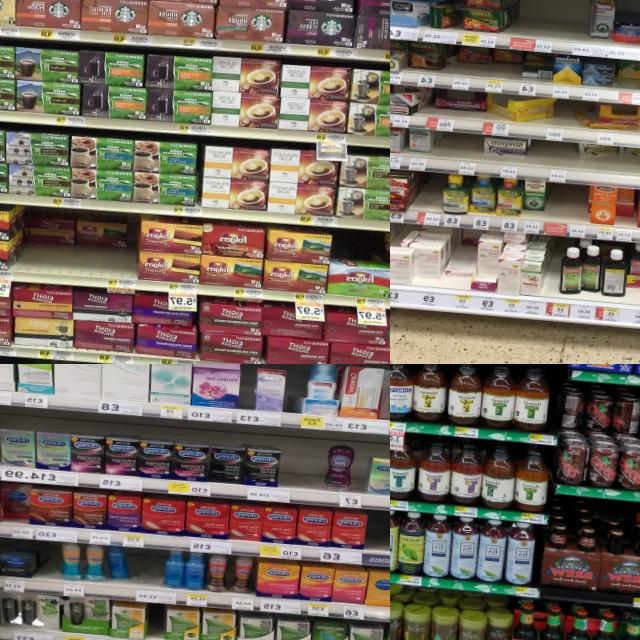100% O.O.S: (278, 437, 324, 502), (546, 180, 588, 237), (515, 0, 560, 51), (126, 548, 164, 602), (532, 139, 574, 183), (442, 132, 482, 175), (558, 0, 588, 55), (363, 511, 390, 566), (414, 172, 442, 225), (550, 99, 572, 141), (45, 541, 61, 594), (145, 604, 163, 640)
